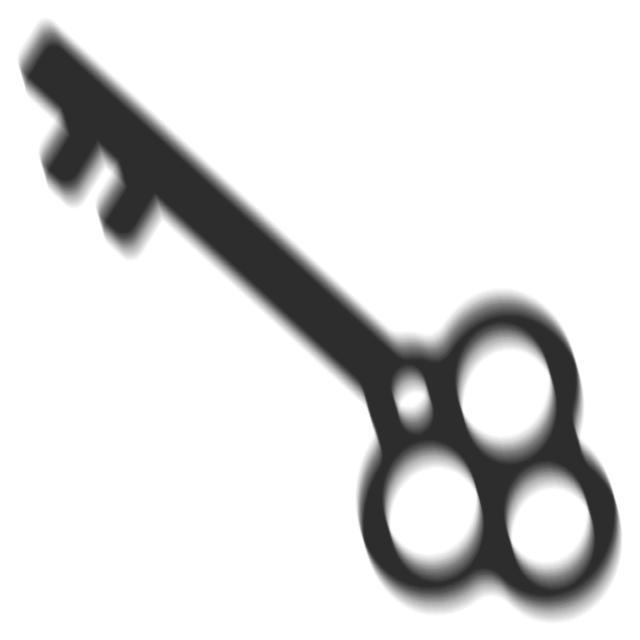key: (5, 13, 632, 636)
